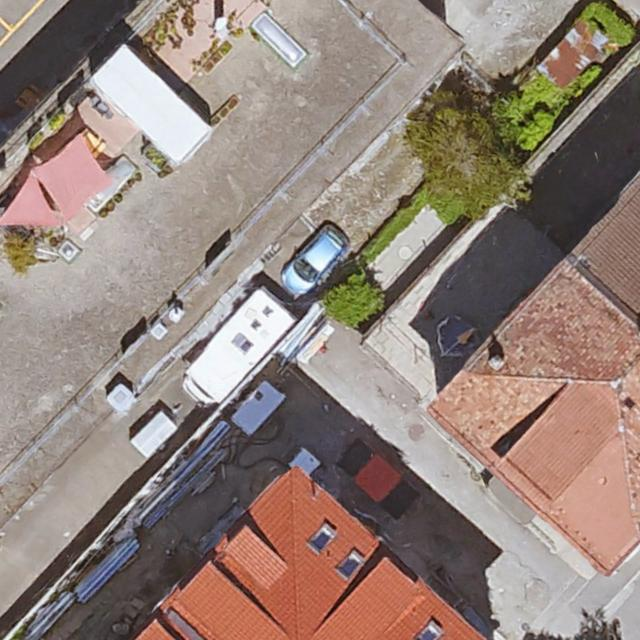tree: (409, 102, 521, 208), (319, 271, 381, 325)
